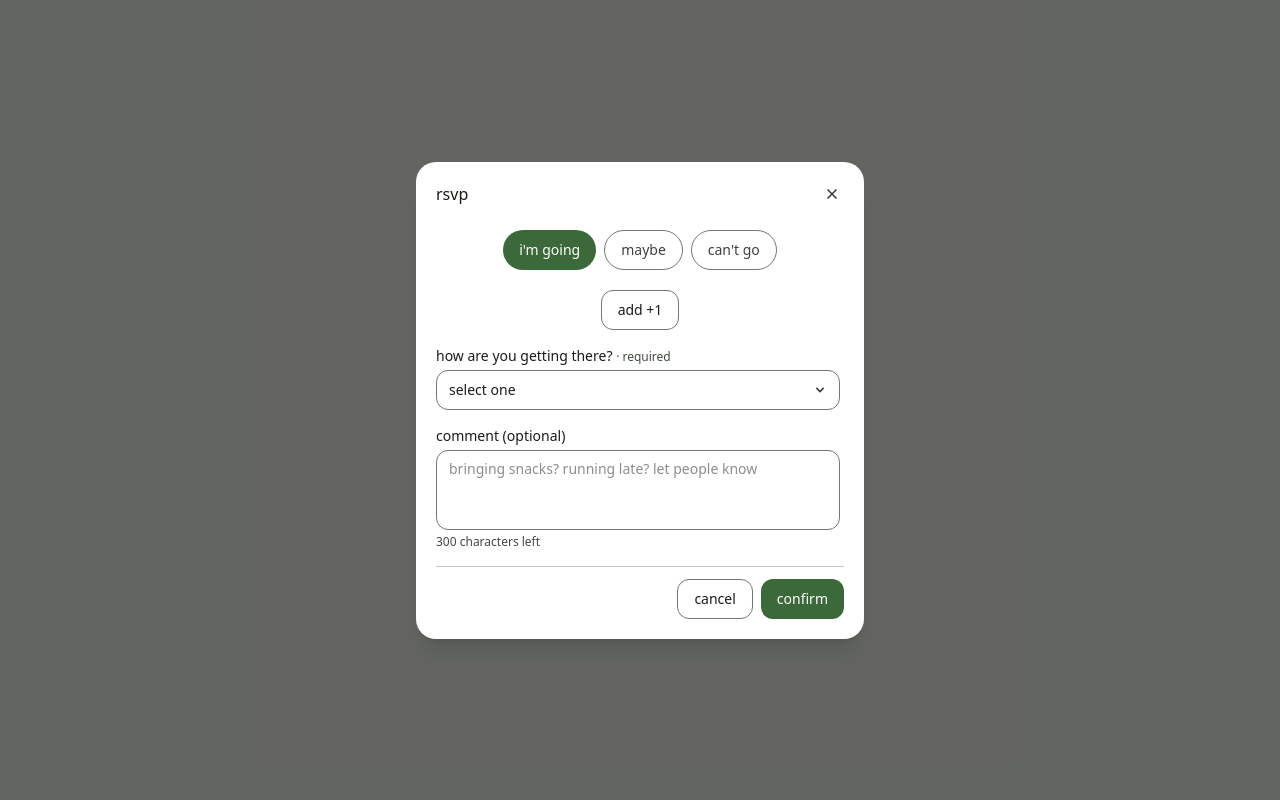
Test case: RsvpBox › should hide questions when status is can’t go
Click the button "can't go": click(734, 250) [691,230,777,270]
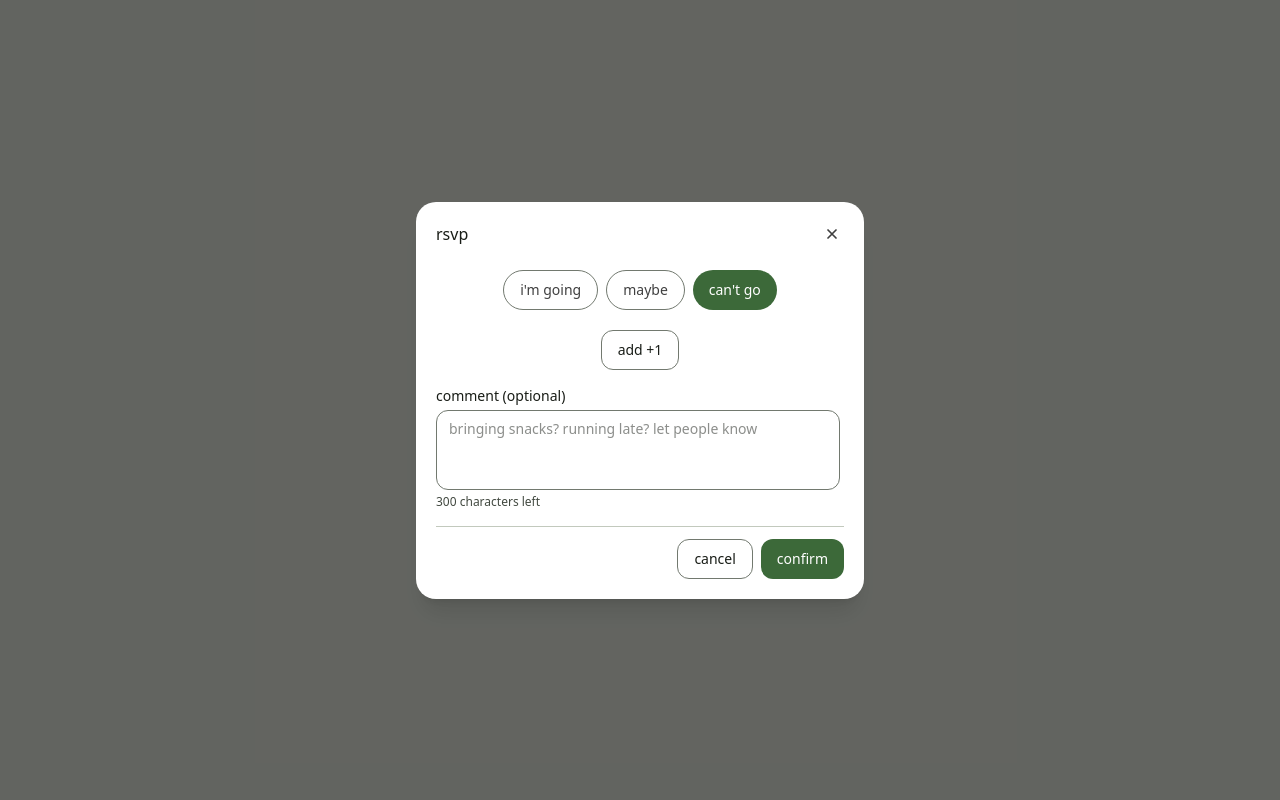
Expected: the text "how are you getting there?" is gone
